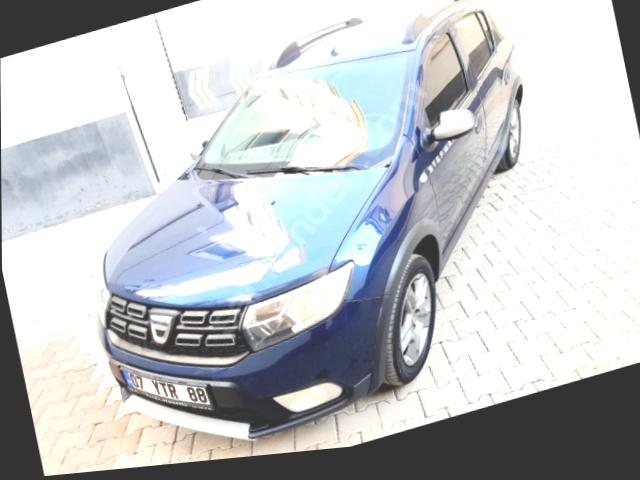plaka: (122, 369, 212, 410)
